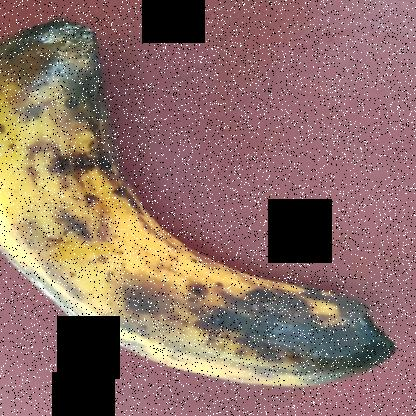rotten: (0, 14, 402, 394)
